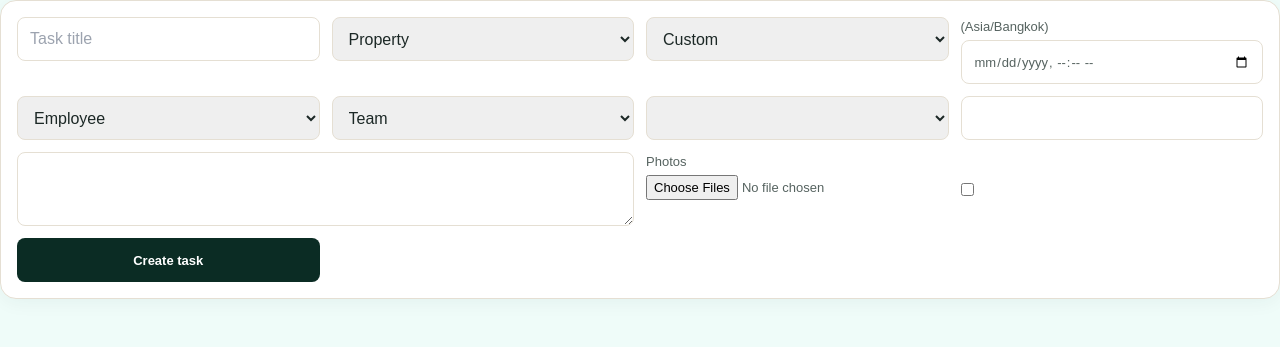
Test case: operational task form submission › recovers from network without leaving the form busy
This screenshot has width=1280, height=347.
Type "Shift task" into the field named "title". click: (168, 39)
box: [17,17,320,61]
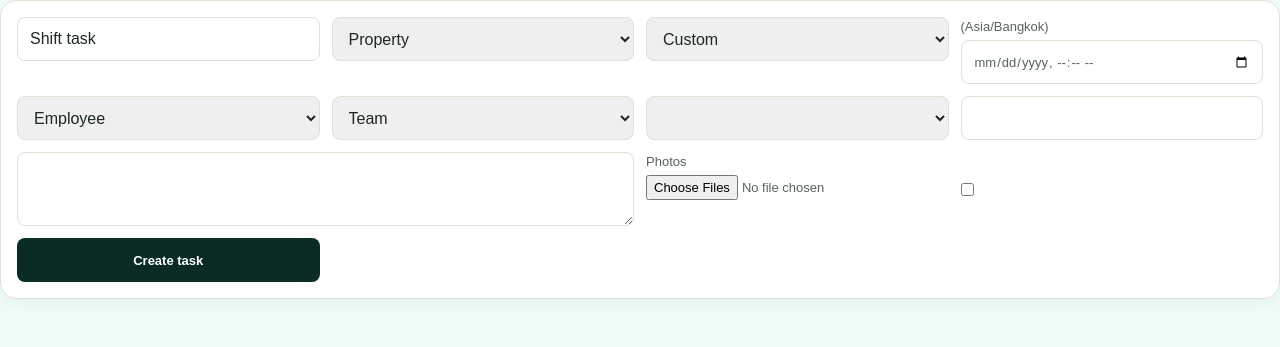
Select "Estate · Villa" in the 1st dropdown named "unitId". click: (483, 39)
box: [332,17,634,61]
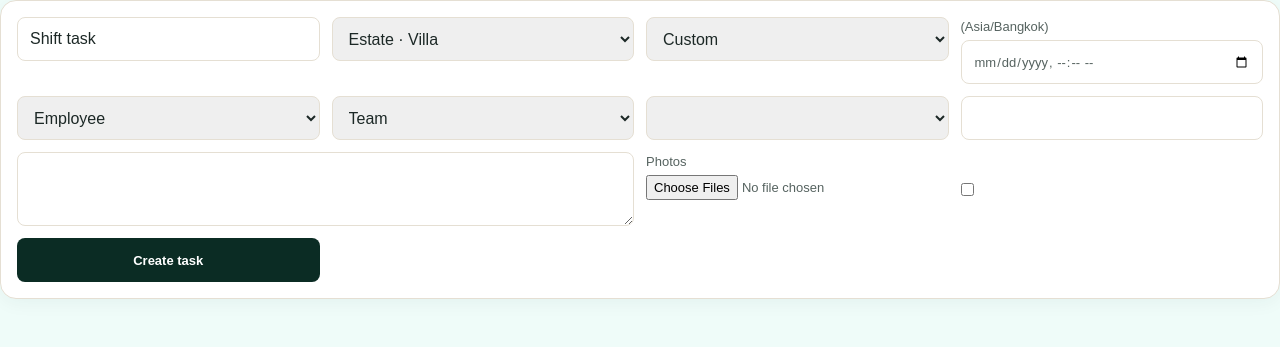
Select "Test Staff" in the 3rd dropdown named "assignedIdentityId". click: (168, 118)
box: [17,96,320,140]
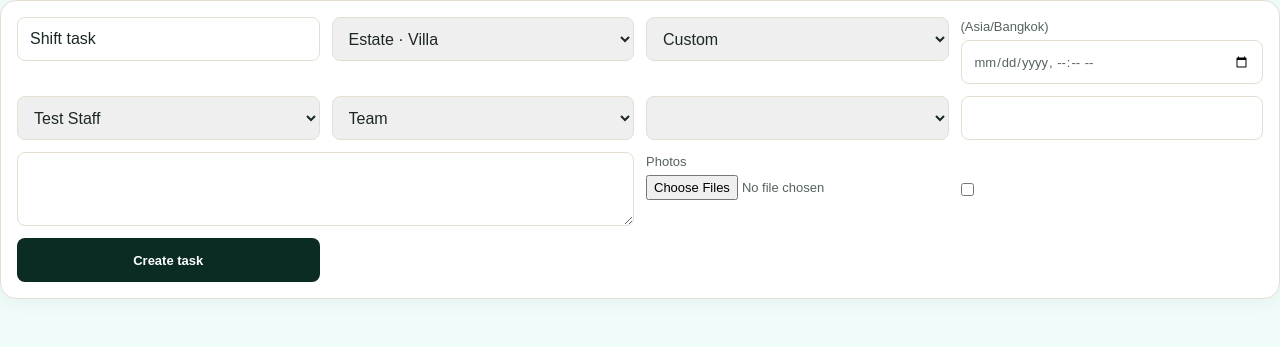
Type "2027-01-10T10:00" into the field named "dueAt". click: (1112, 62)
box: [960,40,1263,84]
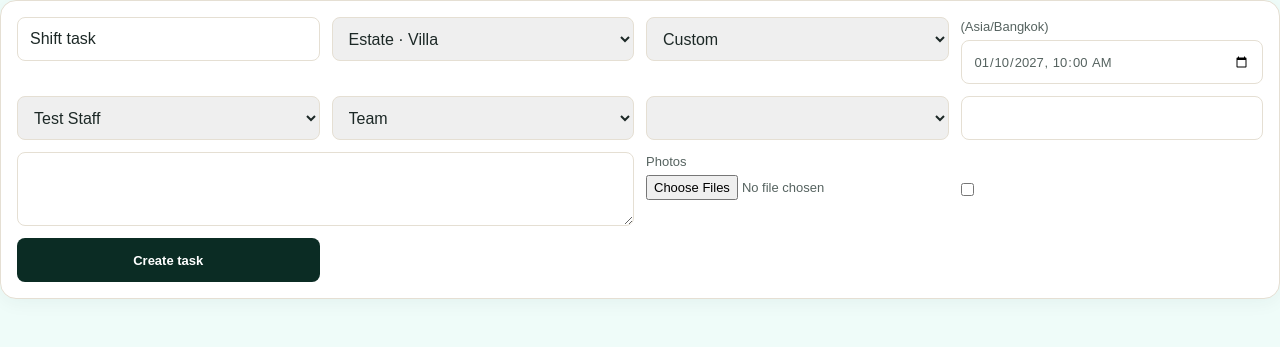
Submit the form
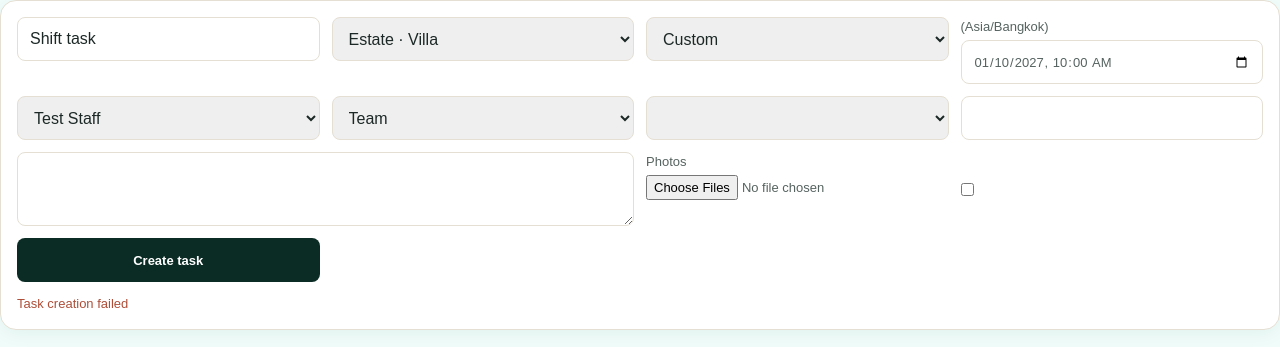
Expected: the button "Create task" is enabled, [17,238,320,282]
Expected: the message reads "Task creation failed", [17,296,128,311]
